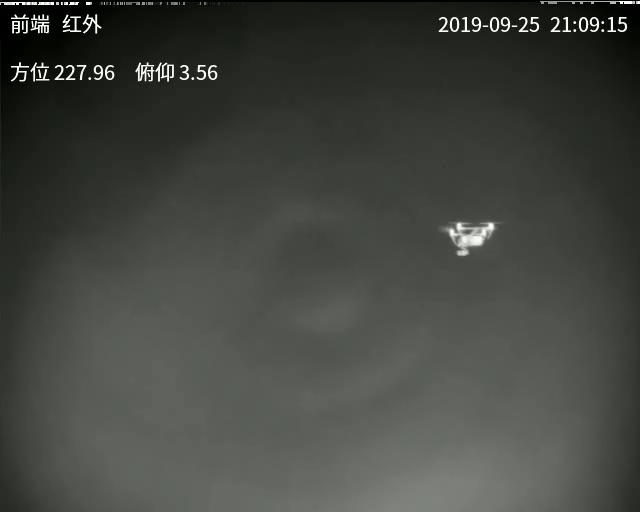uav: (442, 219, 493, 258)
